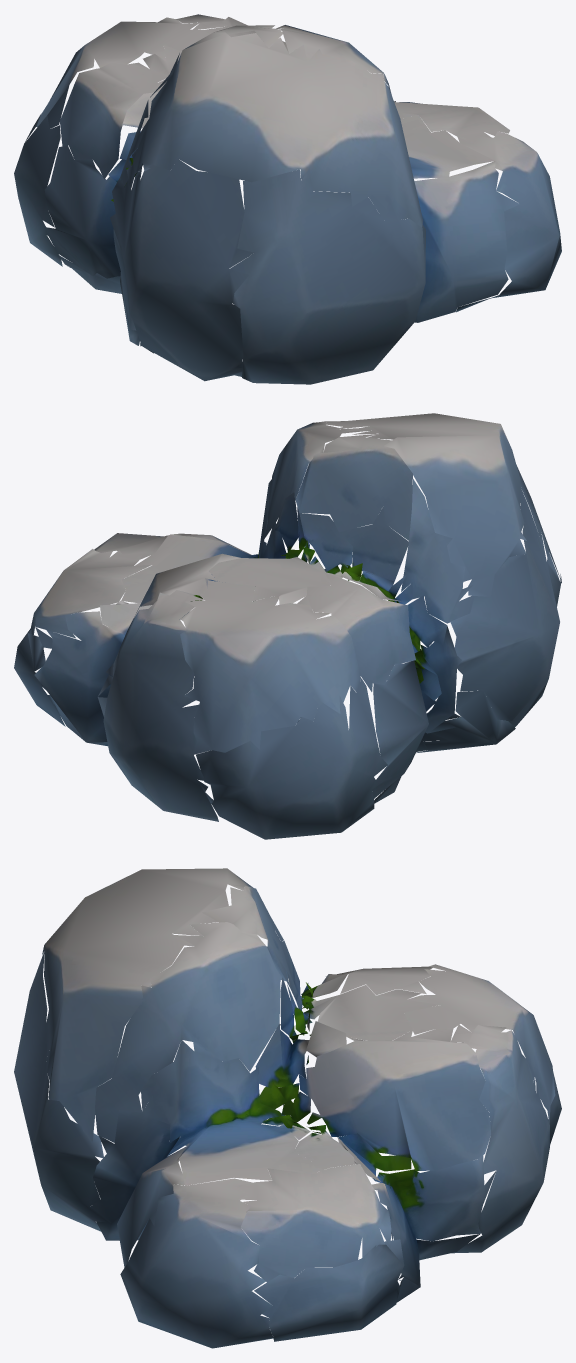
File: boulder-b.glb
The picture shows the model from 3 angles, top to bottom: view 1: azimuth 30°, elevation 25°; view 2: azimuth 150°, elevation 25°; view 3: azimuth 270°, elevation 25°; orthographic projection. The views are drawn at different scales.
Visible parts, largest first — view 1: tripo_node_503ee28c-49be-4c15-ab4e-7143fa18503b; view 2: tripo_node_503ee28c-49be-4c15-ab4e-7143fa18503b; view 3: tripo_node_503ee28c-49be-4c15-ab4e-7143fa18503b.
Boxes of the visible parts, x1=… form: tripo_node_503ee28c-49be-4c15-ab4e-7143fa18503b: x1=14, y1=14, x2=561, y2=384; tripo_node_503ee28c-49be-4c15-ab4e-7143fa18503b: x1=14, y1=413, x2=561, y2=839; tripo_node_503ee28c-49be-4c15-ab4e-7143fa18503b: x1=14, y1=868, x2=561, y2=1348.
Size of the model in its own units: 0.9943 by 0.6189 by 0.9994.
Materials: 1 (1 with a texture image).
